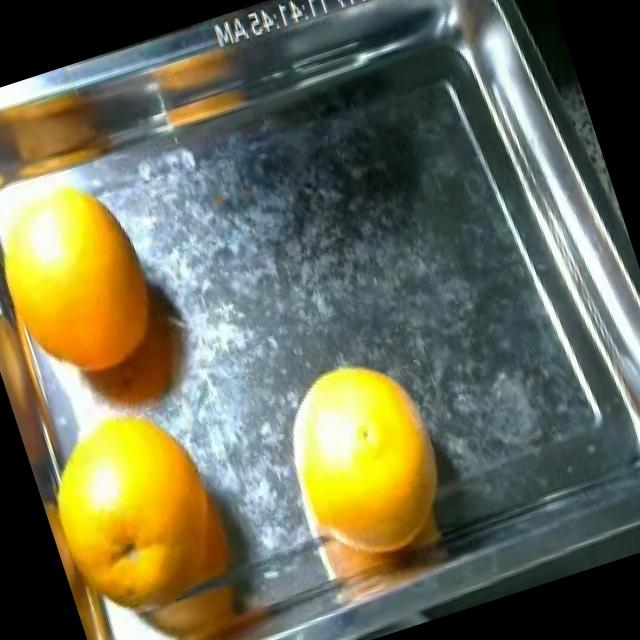Fruit: (259, 329, 471, 563), (0, 137, 174, 370)
